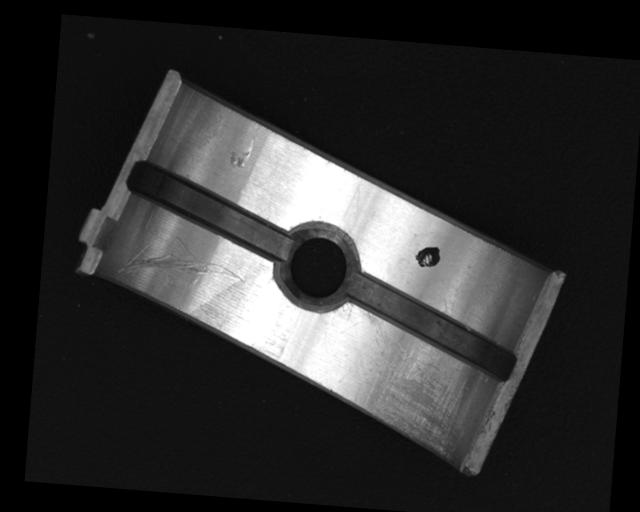blot: (413, 245, 442, 270)
bruise: (227, 135, 256, 170)
gap: (341, 271, 521, 384), (121, 159, 300, 261)
hole: (269, 219, 363, 317)
nick: (113, 228, 252, 287)
scratch: (350, 310, 473, 465)
